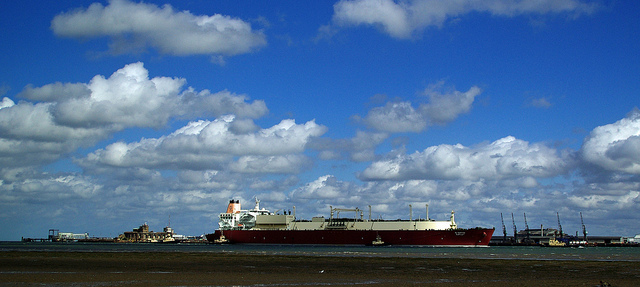LNG_ship: (204, 193, 500, 250)
